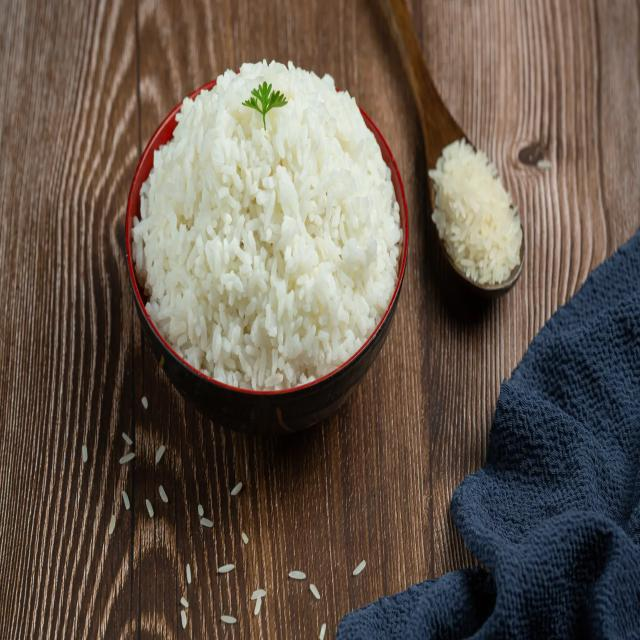arroz: (129, 54, 409, 396)
